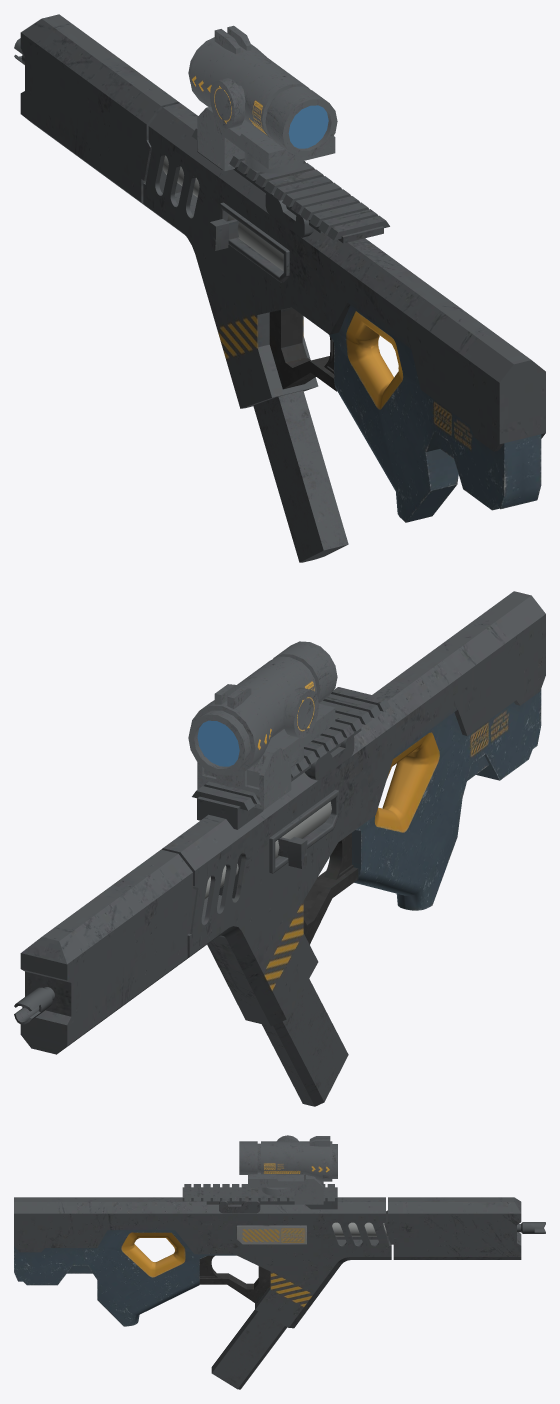
File: gun_primary.glb
3 views of the same model, one above another, from view 1: azimuth 30°, elevation 25°; view 2: azimuth 150°, elevation 25°; view 3: azimuth 270°, elevation 25° (orthographic). The views are drawn at different scales.
Parts seen in each view (by area): view 1: gun_primary; view 2: gun_primary; view 3: gun_primary.
Part boxes in pixels (x1=…): gun_primary: x1=14, y1=14, x2=545, y2=562; gun_primary: x1=14, y1=591, x2=545, y2=1106; gun_primary: x1=14, y1=1135, x2=545, y2=1389.
Bounding box in the file's own units: 0.0728 × 0.4143 × 0.8.
Materials: 3 (3 with a texture image).
